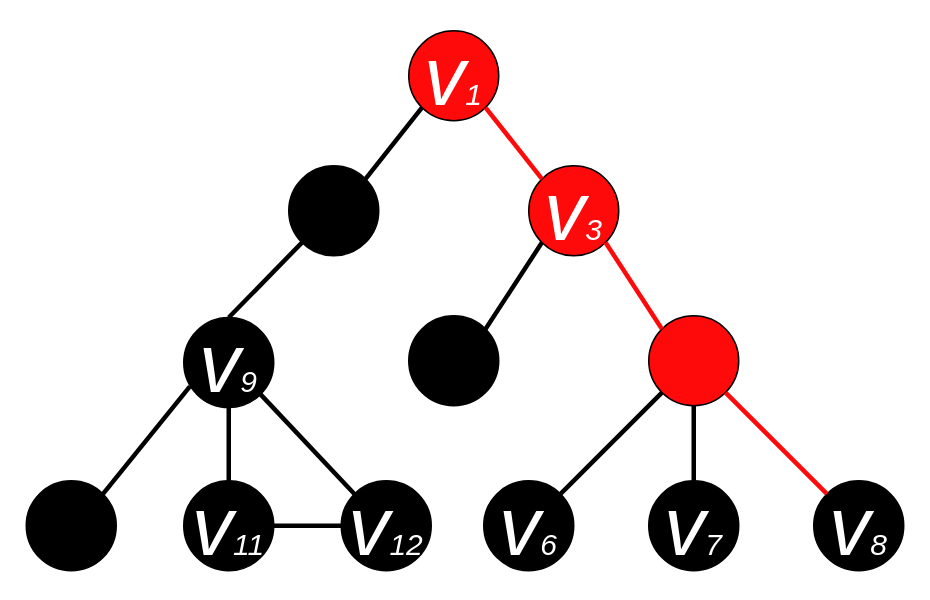
Some shapes in this 930 by 600 pixel diagram are drawn without their labels. Here are the shapes that lost their labels. From the top down, the box of each, then its label:
(287, 164, 379, 256): v 2
(407, 314, 499, 406): v 4
(647, 314, 739, 406): v 5
(25, 479, 116, 571): v 10
